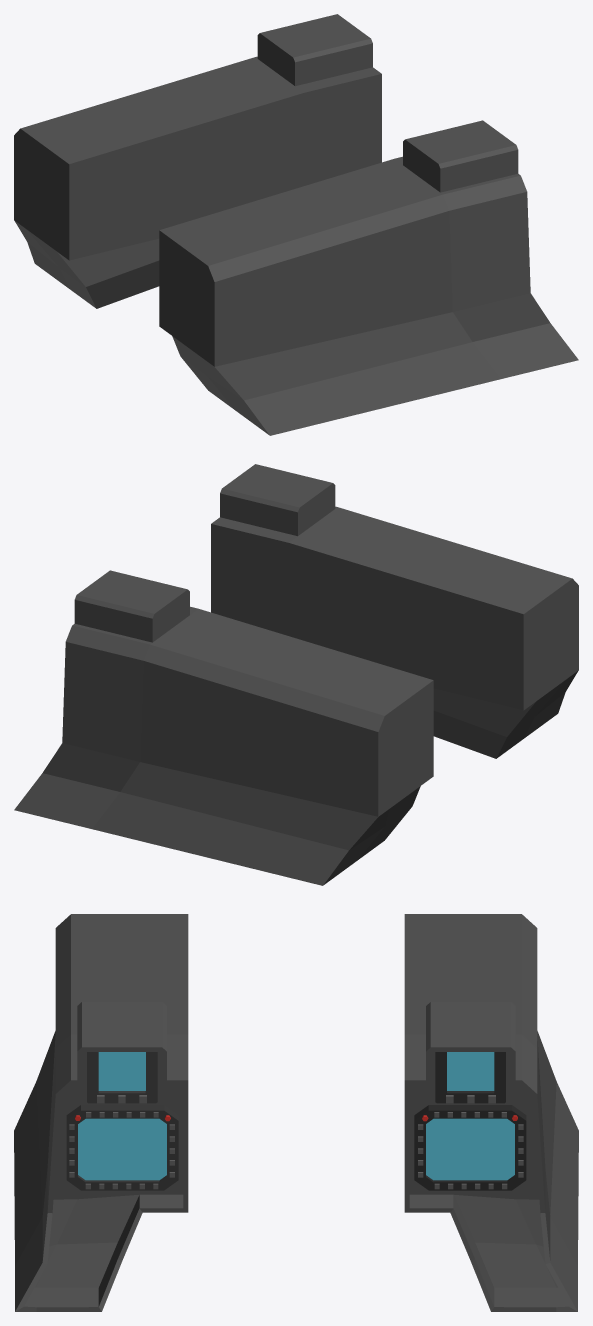
File: Side Console.fbx
3 views of the same model, one above another, from view 1: azimuth 30°, elevation 25°; view 2: azimuth 150°, elevation 25°; view 3: azimuth 270°, elevation 25° (orthographic). The views are drawn at different scales.
Visible parts, largest first — view 1: Cube.012; view 2: Cube.012; view 3: Cube.012.
Boxes of the visible parts, left/top/right/bottom form: Cube.012: left=14, top=14, right=578, bottom=435; Cube.012: left=14, top=464, right=578, bottom=885; Cube.012: left=14, top=914, right=578, bottom=1311.
Bounding box in the file's own units: 446 × 249 × 523.
